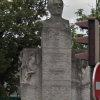Statue: (34, 0, 85, 64)
